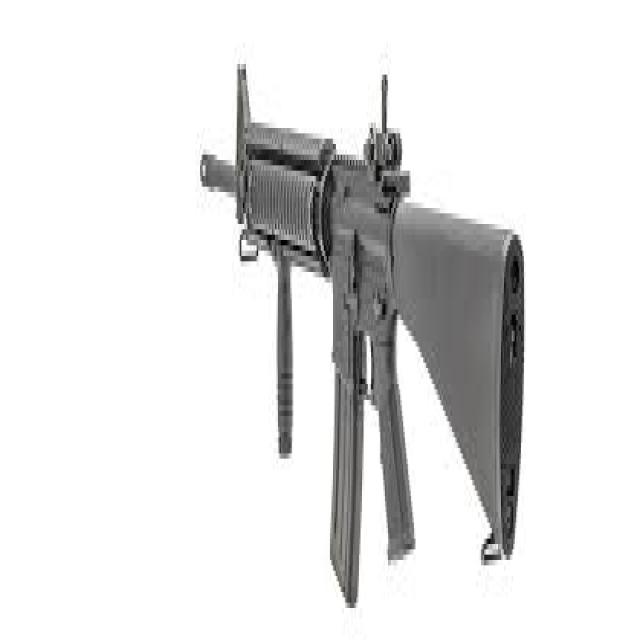rifle: (200, 48, 531, 631)
